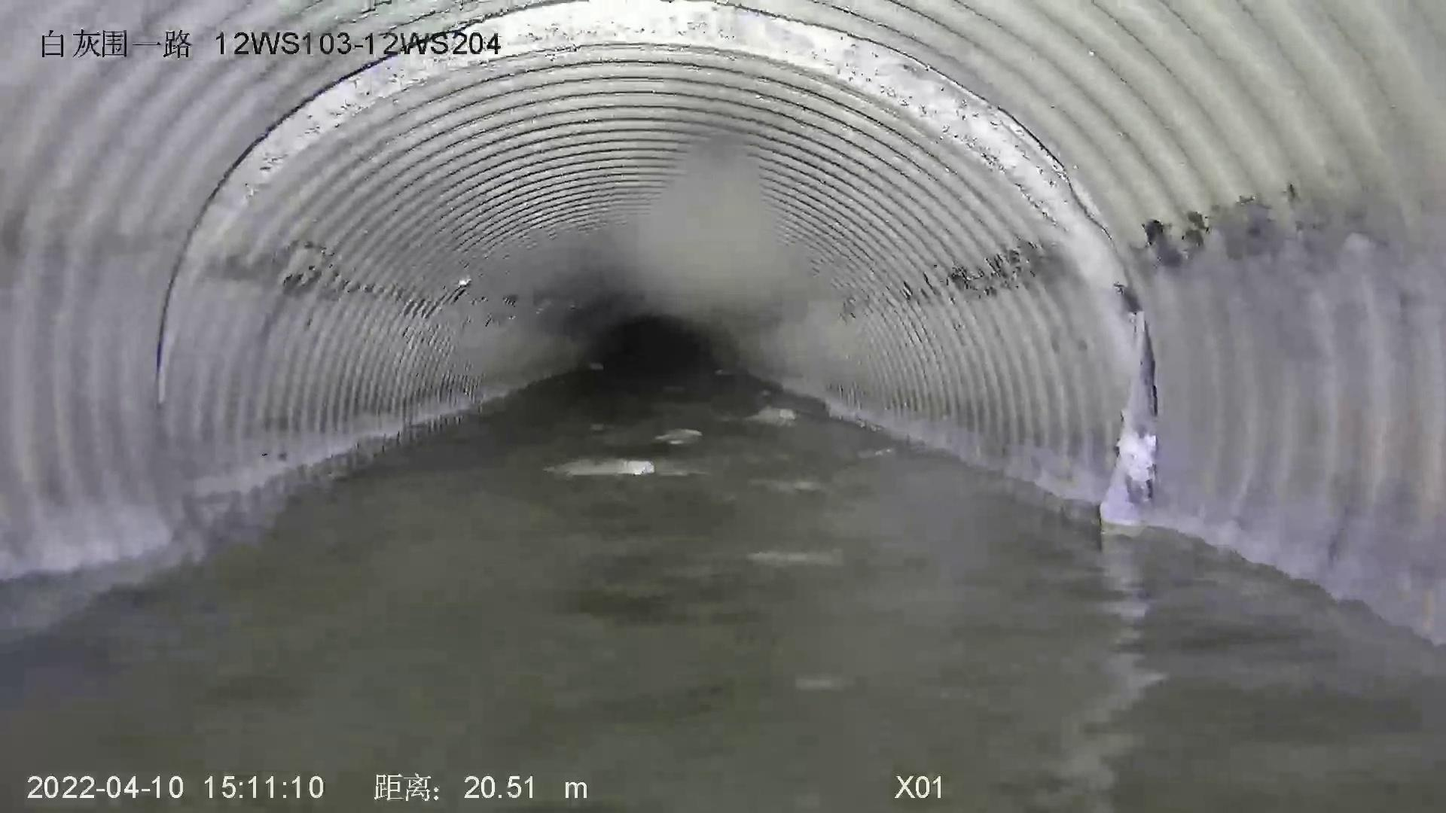CKTJ: (154, 0, 1158, 525)
